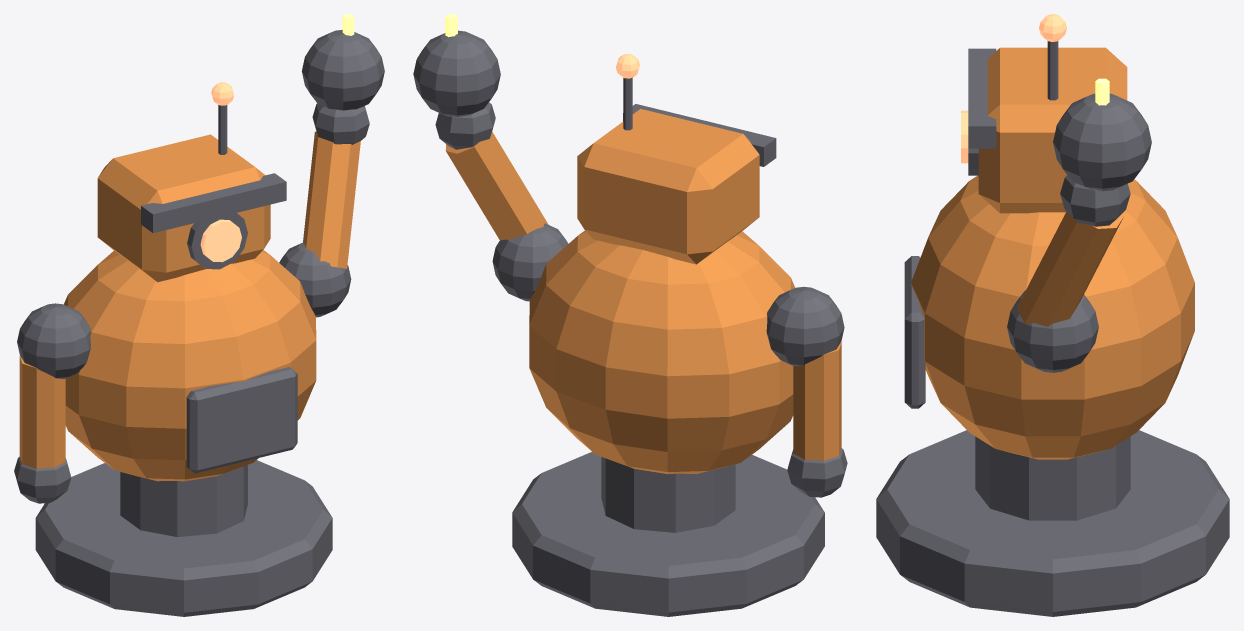
File: Remodel_Thrower.fbx
The picture shows the model from 3 angles, left to right: view 1: azimuth 30°, elevation 25°; view 2: azimuth 150°, elevation 25°; view 3: azimuth 270°, elevation 25°; orthographic projection. The views are drawn at different scales.
Visible parts, largest first — view 1: Body, HoverBase, Head.001, BellyPlate, Waist, ArmR, Bomb, ArmL, ShoulderL, Brow, ShoulderR, FistL (+3 smaller); view 2: Body, HoverBase, Head.001, Waist, Bomb, ArmR, ArmL, ShoulderL, ShoulderR, FistL, FistR, Brow; view 3: Body, HoverBase, Head.001, Waist, Bomb, ArmR, ShoulderR, BellyPlate, Brow, FistR, Antenna, AntennaTip.
Part boxes in pixels (box(x1,y1,x2,y2)): Body: box(64, 250, 316, 481); HoverBase: box(35, 460, 332, 616); Head.001: box(97, 134, 270, 282); BellyPlate: box(186, 367, 297, 473); Waist: box(120, 465, 247, 536); ArmR: box(303, 131, 360, 268); Bomb: box(302, 30, 384, 110); ArmL: box(19, 356, 65, 468); ShoulderL: box(17, 303, 90, 378); Brow: box(141, 173, 286, 232); ShoulderR: box(279, 242, 351, 317); FistL: box(14, 456, 71, 503); Body: box(529, 230, 795, 474); HoverBase: box(512, 452, 824, 616); Head.001: box(577, 109, 759, 264); Waist: box(601, 457, 735, 532); Bomb: box(413, 30, 500, 116); ArmR: box(445, 131, 548, 240); ArmL: box(793, 342, 841, 460); ShoulderL: box(766, 286, 844, 366); ShoulderR: box(492, 223, 568, 301); FistL: box(787, 448, 847, 497); FistR: box(435, 102, 495, 149); Brow: box(623, 104, 776, 166); Body: box(911, 175, 1194, 459); HoverBase: box(876, 430, 1229, 616); Head.001: box(978, 47, 1127, 213); Waist: box(975, 436, 1130, 520); Bomb: box(1053, 93, 1151, 191); ArmR: box(1017, 211, 1124, 326); ShoulderR: box(1007, 290, 1098, 372); BellyPlate: box(904, 256, 925, 408); Brow: box(968, 48, 996, 148); FistR: box(1060, 175, 1130, 226); Antenna: box(1047, 41, 1058, 100); AntennaTip: box(1039, 14, 1066, 41).
Bounding box in the file's own units: 1.49 × 1.81 × 1.
